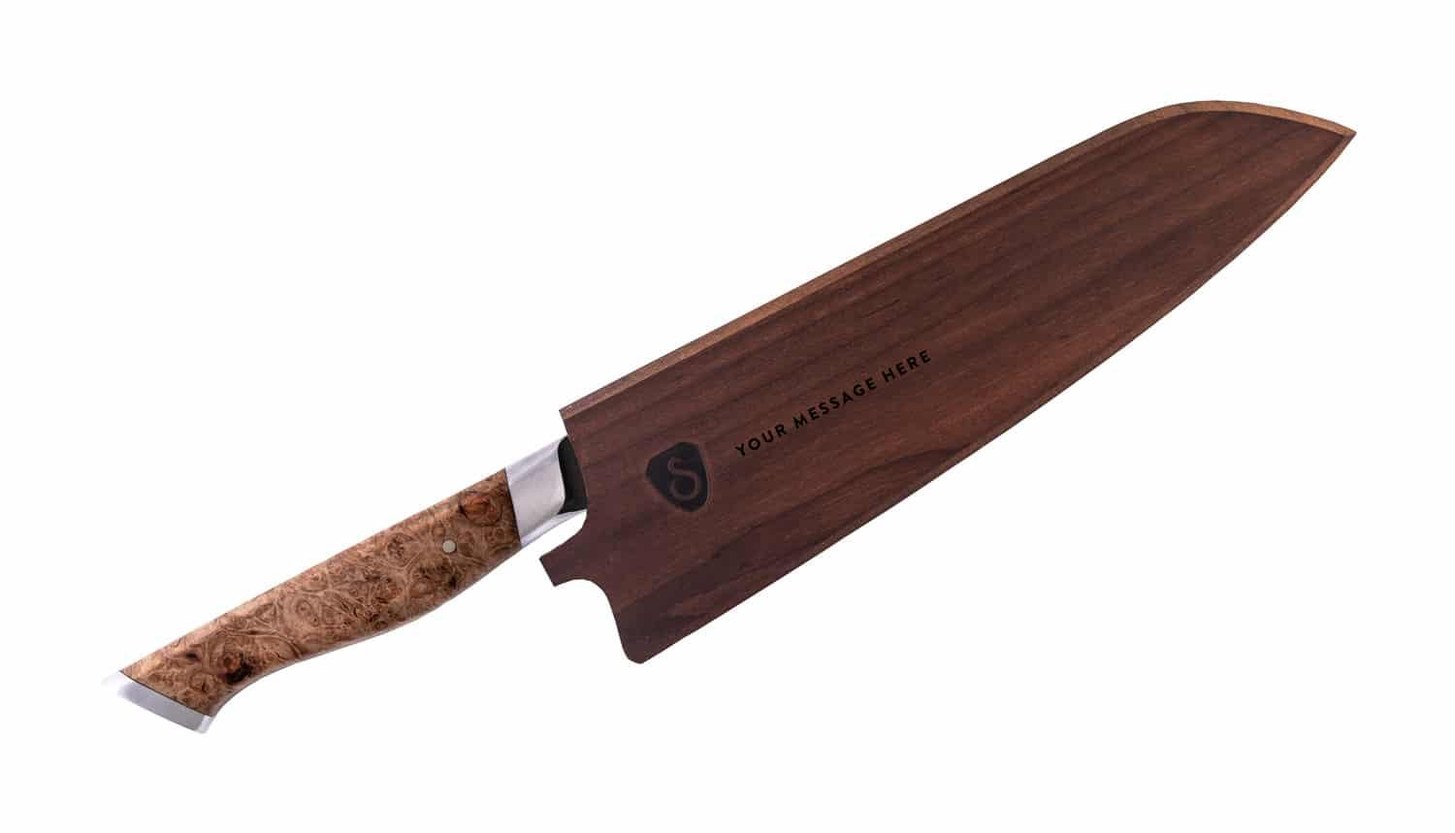Knife: (109, 93, 1356, 745)
